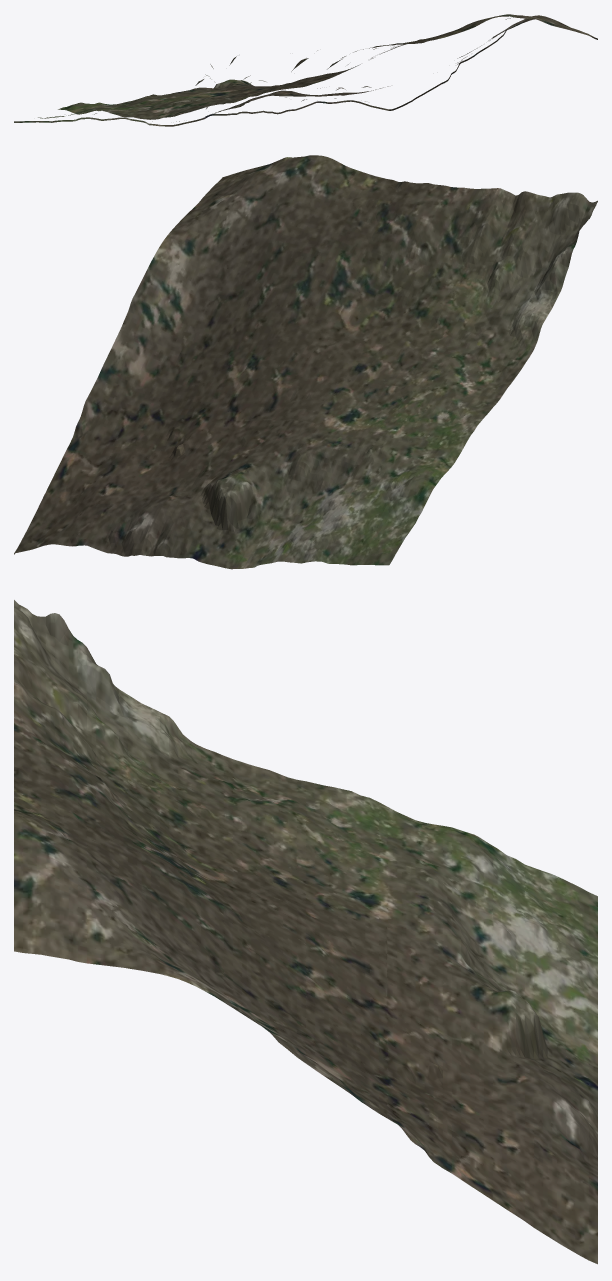
The picture shows the model from 3 angles, top to bottom: view 1: azimuth 30°, elevation 25°; view 2: azimuth 150°, elevation 25°; view 3: azimuth 270°, elevation 25°; orthographic projection. The views are drawn at different scales.
Size of the model in its own units: 250 by 189 by 241.
1 material, 1 textured.
